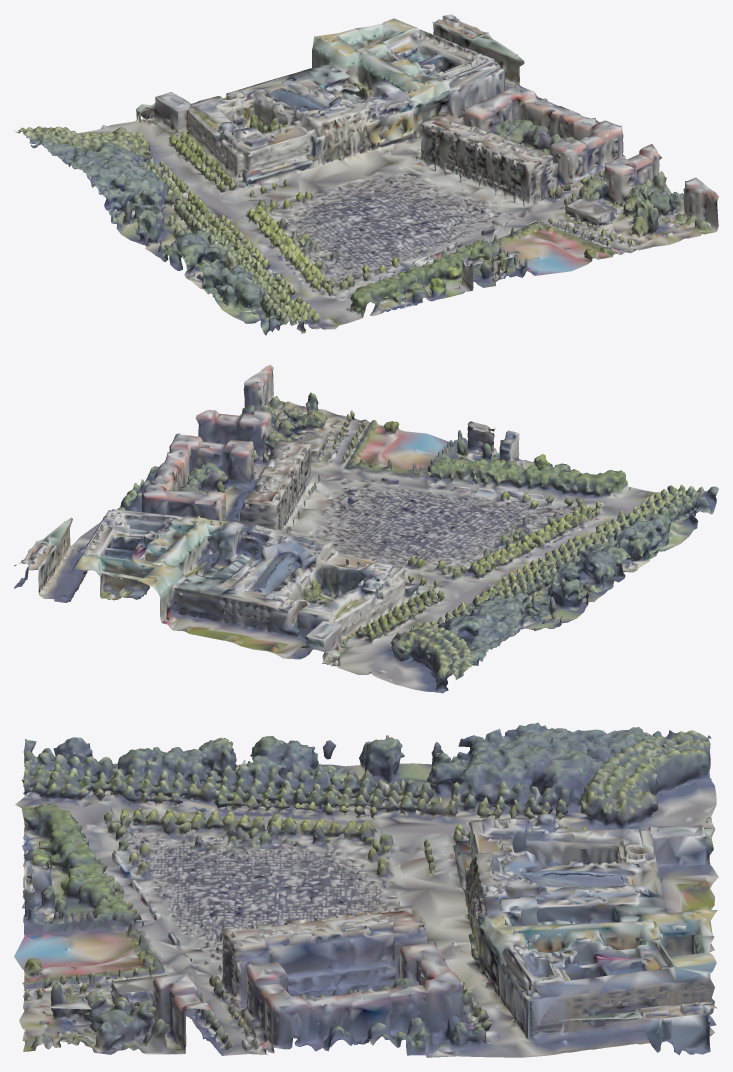
The model's file is tile-3898_58193.glb.
The picture shows the model from 3 angles, top to bottom: view 1: azimuth 30°, elevation 25°; view 2: azimuth 150°, elevation 25°; view 3: azimuth 270°, elevation 25°; orthographic projection. The views are drawn at different scales.
Parts seen in each view (by area): view 1: world; view 2: world; view 3: world.
Boxes of the visible parts, box(x1,y1,x2,y2) form: world: box(14, 14, 718, 335); world: box(14, 364, 718, 693); world: box(14, 722, 718, 1057).
Size of the model in its own units: 368 by 40.34 by 371.
